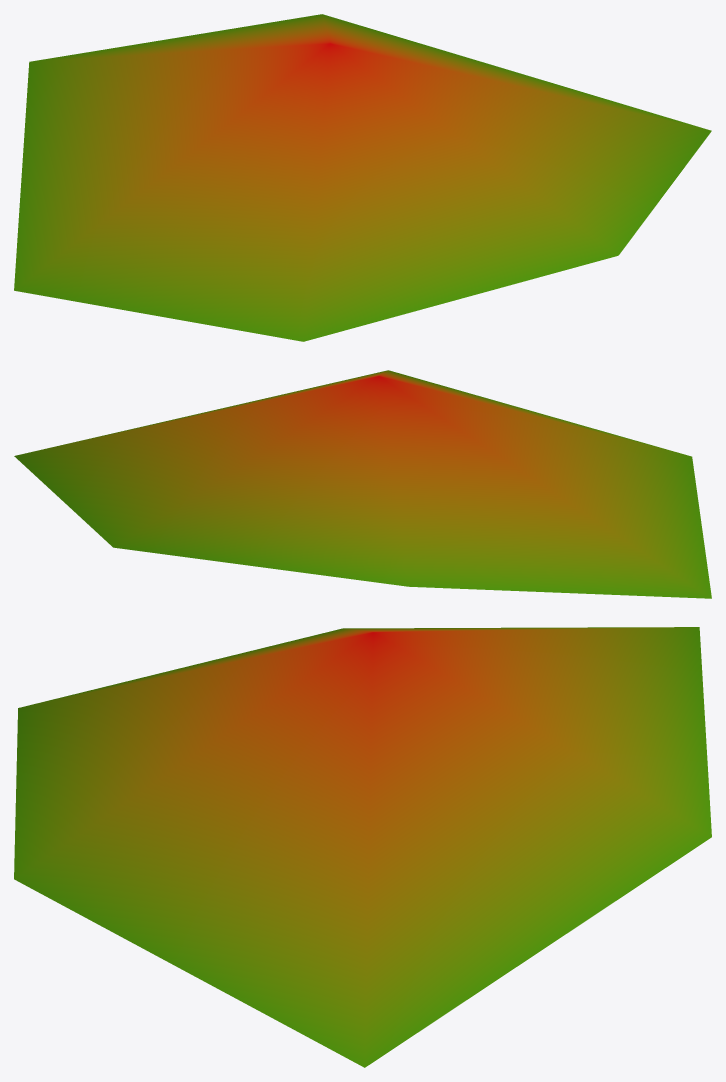
Rendered from Var5_LOD3.fbx.
The picture shows the model from 3 angles, top to bottom: view 1: azimuth 30°, elevation 25°; view 2: azimuth 150°, elevation 25°; view 3: azimuth 270°, elevation 25°; orthographic projection. The views are drawn at different scales.
Parts seen in each view (by area): view 1: _3857_Var5_LOD3; view 2: _3857_Var5_LOD3; view 3: _3857_Var5_LOD3.
Boxes of the visible parts, <box> form: _3857_Var5_LOD3: <box>14,14,711,341</box>; _3857_Var5_LOD3: <box>14,370,711,598</box>; _3857_Var5_LOD3: <box>14,627,711,1067</box>.
Size of the model in its own units: 36.22 by 8.65 by 25.68.
